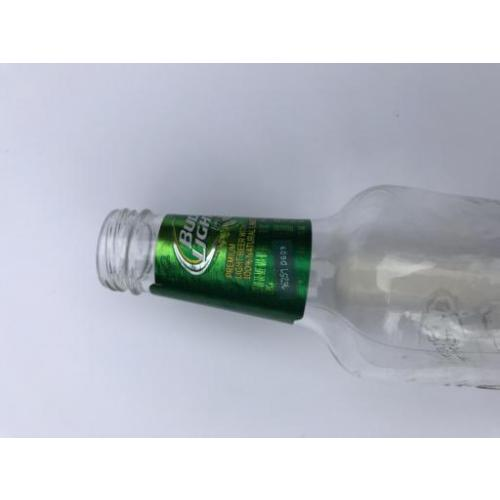glass: (96, 186, 499, 391)
